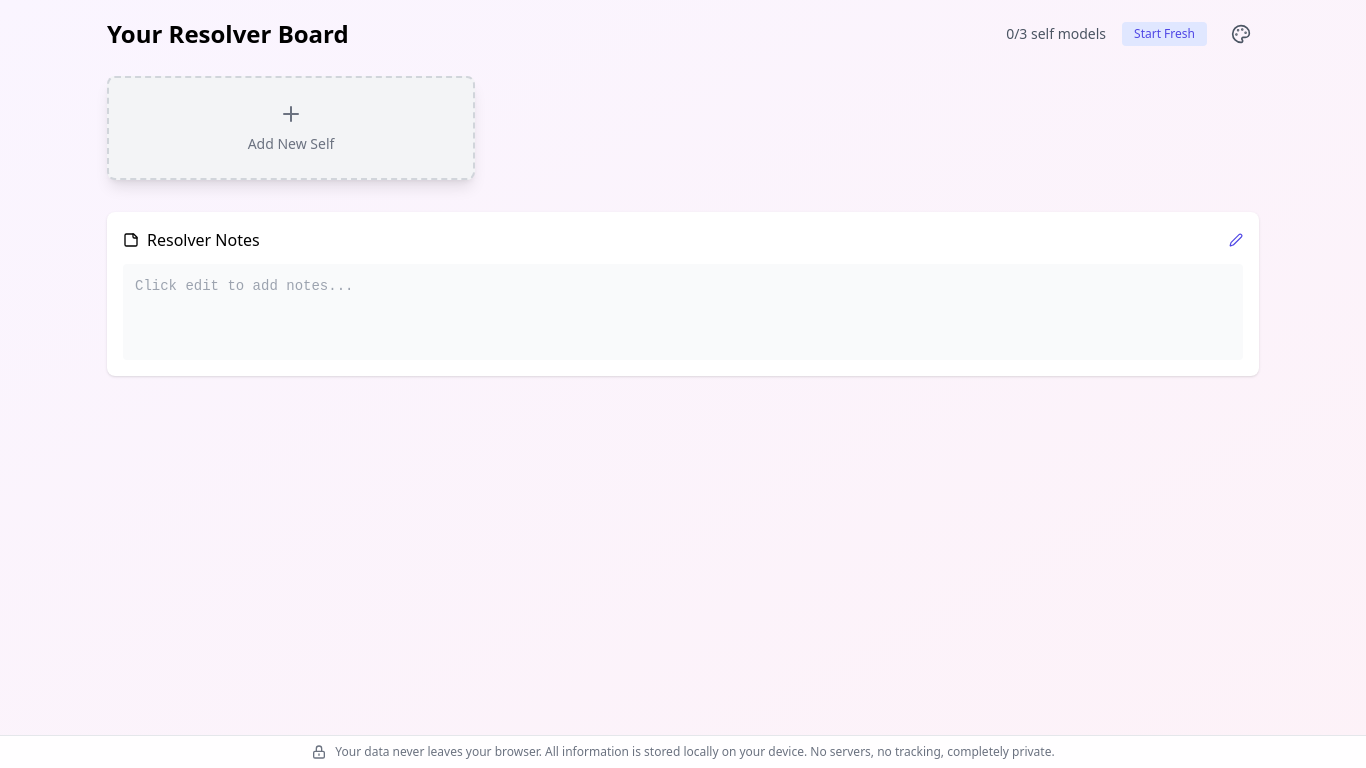
Test case: ResolverApp › Create Self Modal › should close modal on cancel
What coordinates should you click on to do the following:
click the element showing "Add New Self"
I would click on:
 (291, 128)
Its box is top-left (248, 102), bottom-right (334, 154).
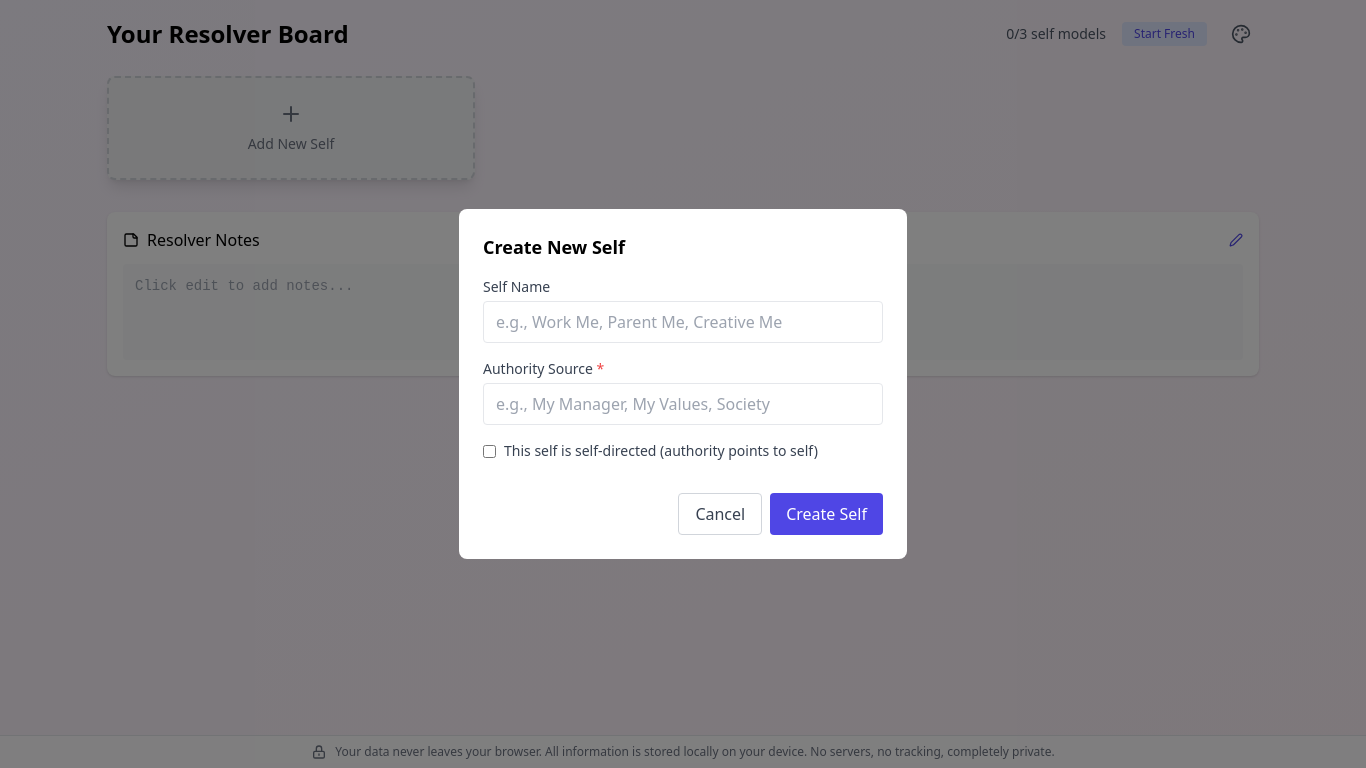
What coordinates should you click on to do the following:
click the button "Cancel"
I would click on:
 (720, 514)
Its box is top-left (678, 493), bottom-right (762, 535).
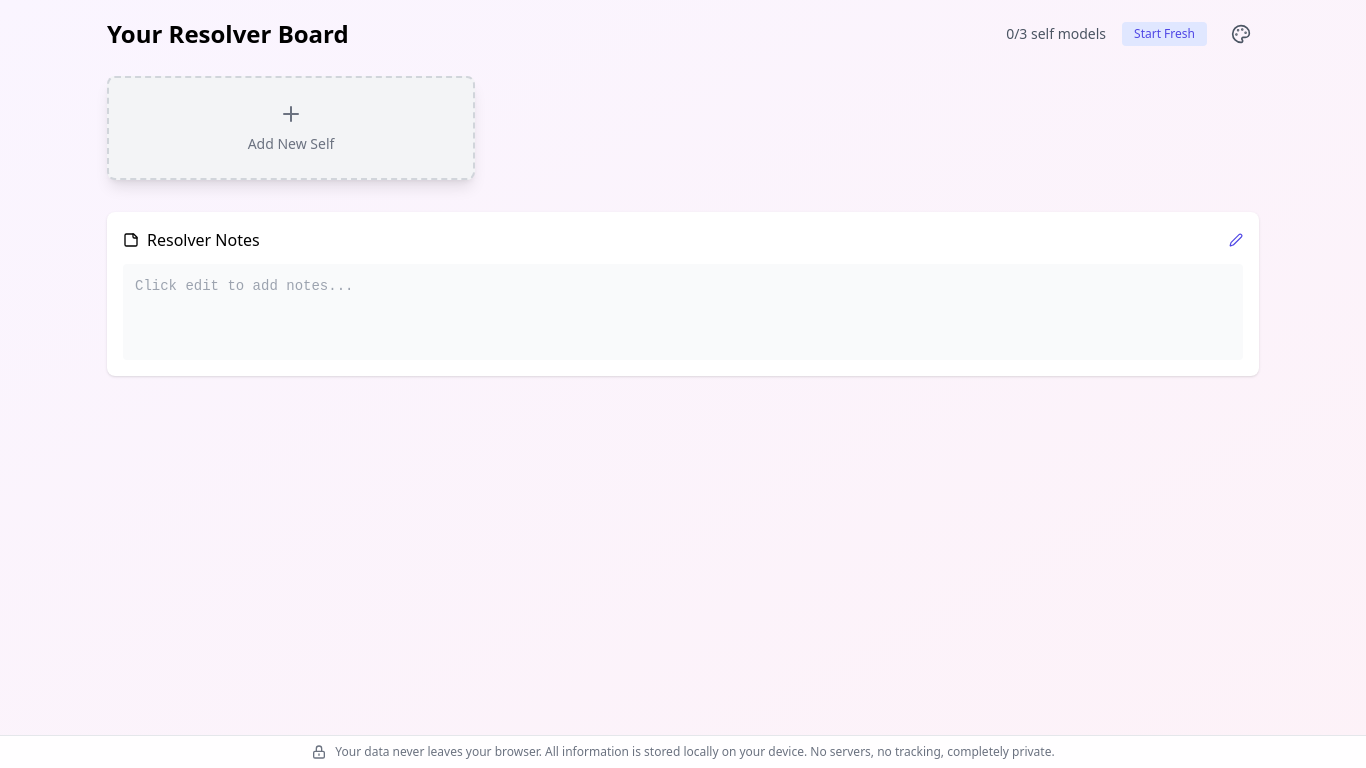
Result: the heading "Create New Self" is gone
